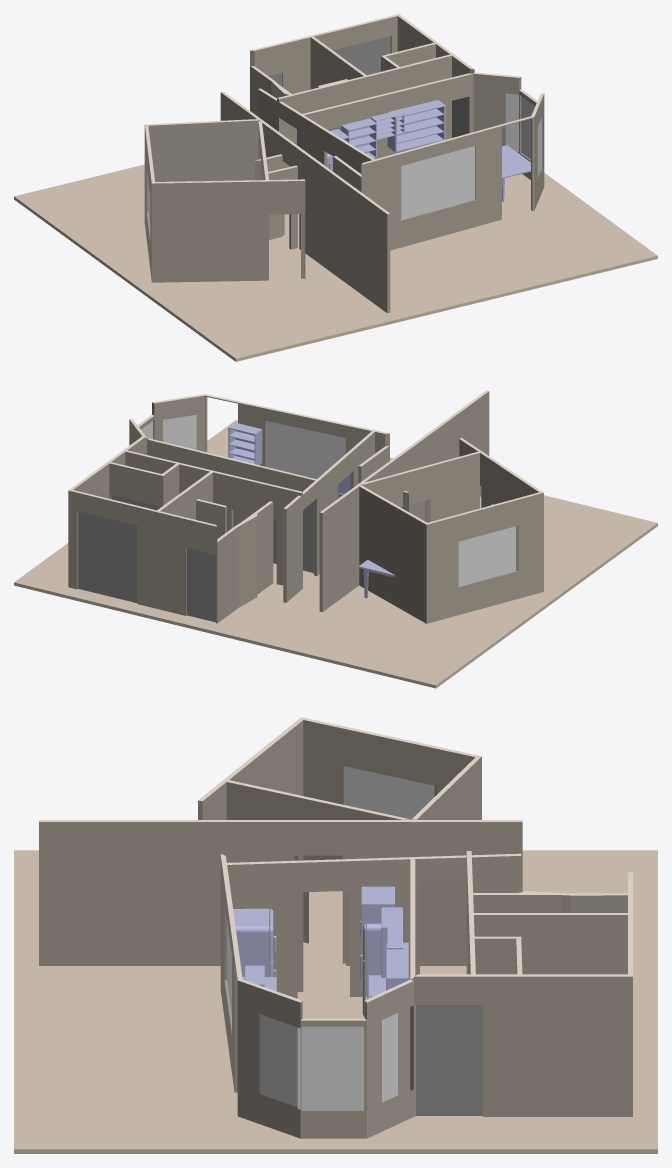
Rendered from Sep27at2-39PM-poly.fbx.
3 views of the same model, one above another, from view 1: azimuth 30°, elevation 25°; view 2: azimuth 150°, elevation 25°; view 3: azimuth 270°, elevation 25° (orthographic). The views are drawn at different scales.
Parts seen in each view (by area): view 1: wall_22.wall_0.wall_21.wall_20.wall_19.wall_18.wall_17.wall_, floor_0, window_1.window_4.window_3.window_2.window_0, wall_24, object_1.object_2.object_3.object_4.object_5.object_6.object, door_3.door_2.door_1.door_0.door_4; view 2: wall_22.wall_0.wall_21.wall_20.wall_19.wall_18.wall_17.wall_, floor_0, door_3.door_2.door_1.door_0.door_4, window_1.window_4.window_3.window_2.window_0, wall_24, object_1.object_2.object_3.object_4.object_5.object_6.object; view 3: wall_22.wall_0.wall_21.wall_20.wall_19.wall_18.wall_17.wall_, floor_0, window_1.window_4.window_3.window_2.window_0, wall_24, door_3.door_2.door_1.door_0.door_4, object_1.object_2.object_3.object_4.object_5.object_6.object.
Boxes of the visible parts, bbox=[...] form: wall_22.wall_0.wall_21.wall_20.wall_19.wall_18.wall_17.wall_: bbox=[144, 16, 544, 313]; floor_0: bbox=[14, 164, 657, 361]; window_1.window_4.window_3.window_2.window_0: bbox=[148, 93, 543, 225]; wall_24: bbox=[144, 14, 543, 214]; object_1.object_2.object_3.object_4.object_5.object_6.object: bbox=[327, 100, 530, 201]; door_3.door_2.door_1.door_0.door_4: bbox=[268, 36, 467, 137]; wall_22.wall_0.wall_21.wall_20.wall_19.wall_18.wall_17.wall_: bbox=[68, 391, 543, 623]; floor_0: bbox=[14, 420, 657, 688]; door_3.door_2.door_1.door_0.door_4: bbox=[78, 495, 313, 622]; window_1.window_4.window_3.window_2.window_0: bbox=[141, 414, 515, 586]; wall_24: bbox=[68, 390, 543, 541]; object_1.object_2.object_3.object_4.object_5.object_6.object: bbox=[228, 422, 493, 597]; wall_22.wall_0.wall_21.wall_20.wall_19.wall_18.wall_17.wall_: bbox=[39, 720, 632, 1138]; floor_0: bbox=[14, 850, 657, 1153]; window_1.window_4.window_3.window_2.window_0: bbox=[227, 766, 434, 1111]; wall_24: bbox=[39, 717, 632, 1020]; door_3.door_2.door_1.door_0.door_4: bbox=[416, 1005, 482, 1115]; object_1.object_2.object_3.object_4.object_5.object_6.object: bbox=[233, 886, 408, 1016].
Bounding box in the file's own units: 14.12 × 3.27 × 12.86.
